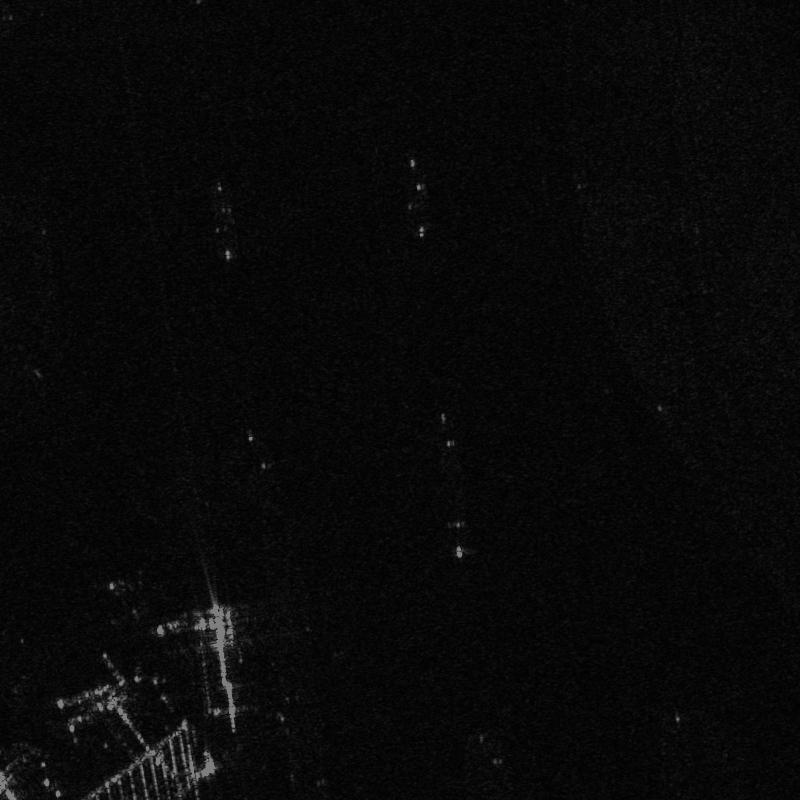A220: (108, 578, 161, 622)
